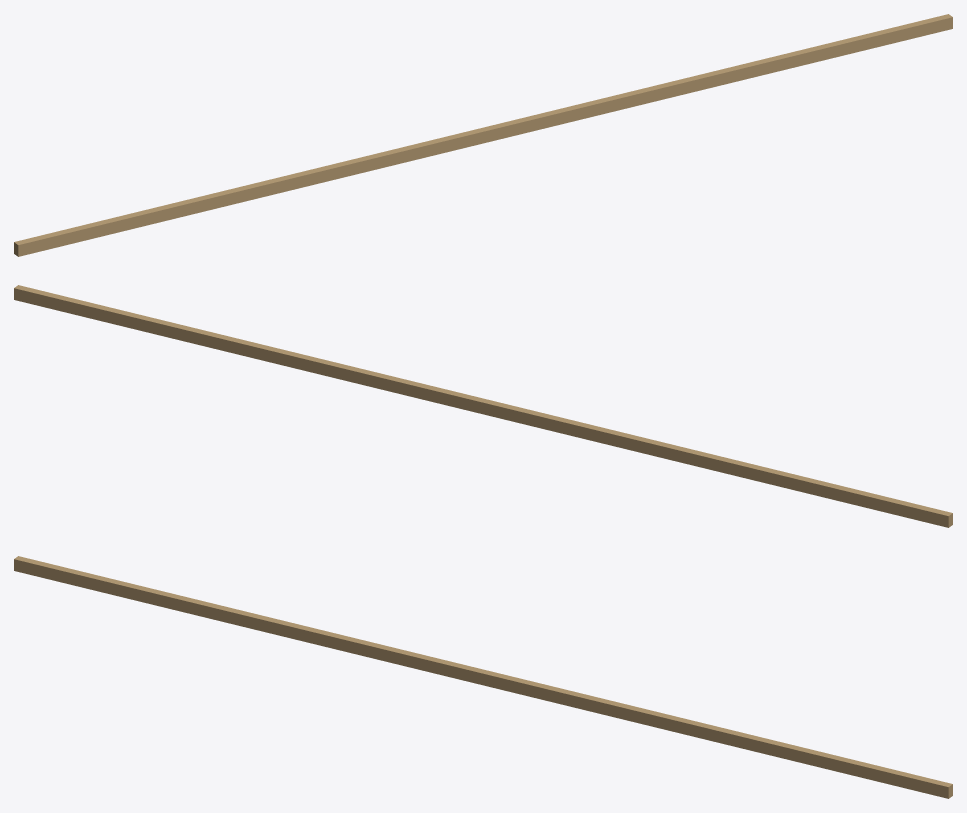
3 views of the same model, one above another, from view 1: azimuth 30°, elevation 25°; view 2: azimuth 150°, elevation 25°; view 3: azimuth 330°, elevation 25° (orthographic).
Parts seen in each view (by area): view 1: 外缘土纸层_直边.001; view 2: 外缘土纸层_直边.001; view 3: 外缘土纸层_直边.001.
Part boxes in pixels (x1,y1,x2,y2): 外缘土纸层_直边.001: (14,14,952,256); 外缘土纸层_直边.001: (14,285,952,527); 外缘土纸层_直边.001: (14,556,952,798).
Bounding box in the file's own units: 2 × 0.024 × 0.016.
